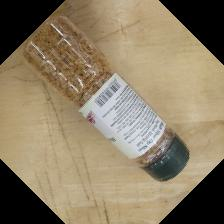TayNinh_green: (21, 14, 190, 183)
